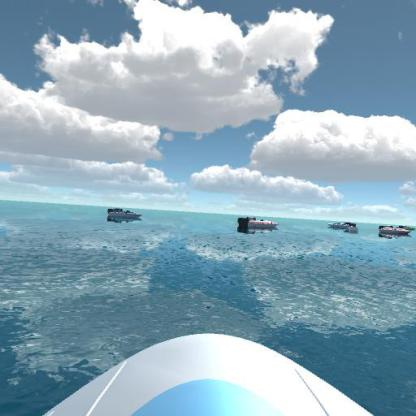usv0: (399, 218, 415, 234)
usv1: (102, 202, 144, 223), (324, 218, 360, 235)
usv3: (235, 213, 280, 236), (376, 223, 412, 242)
